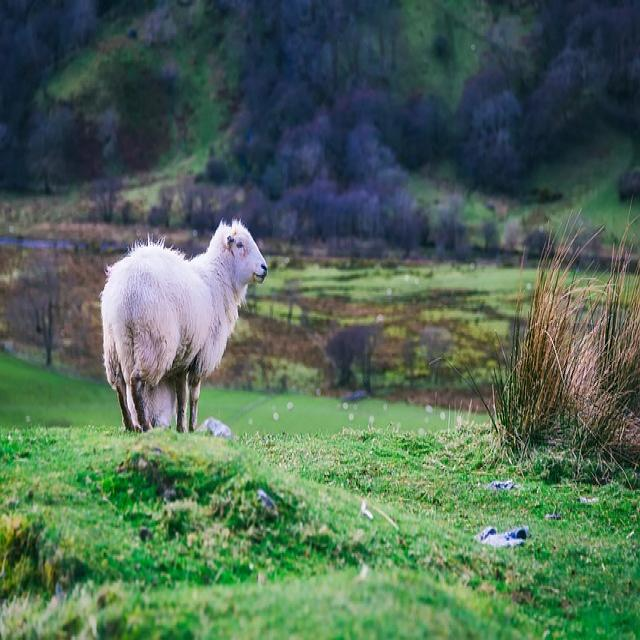goat: (101, 220, 268, 431)
